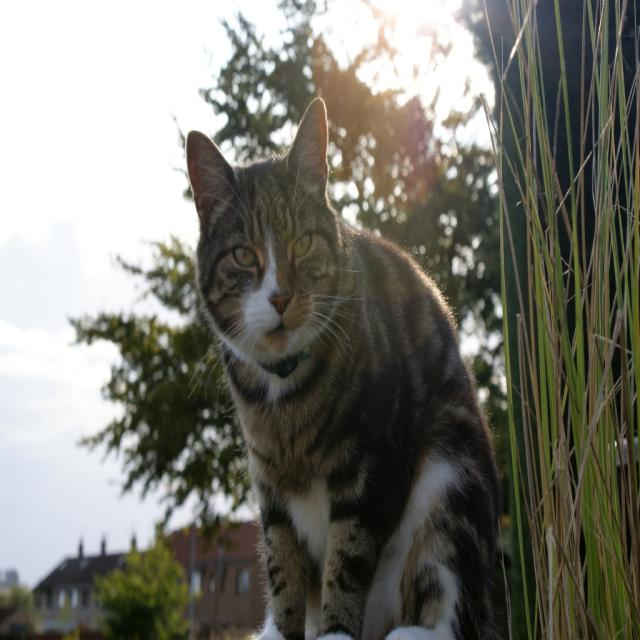Cat: (182, 92, 504, 638)
